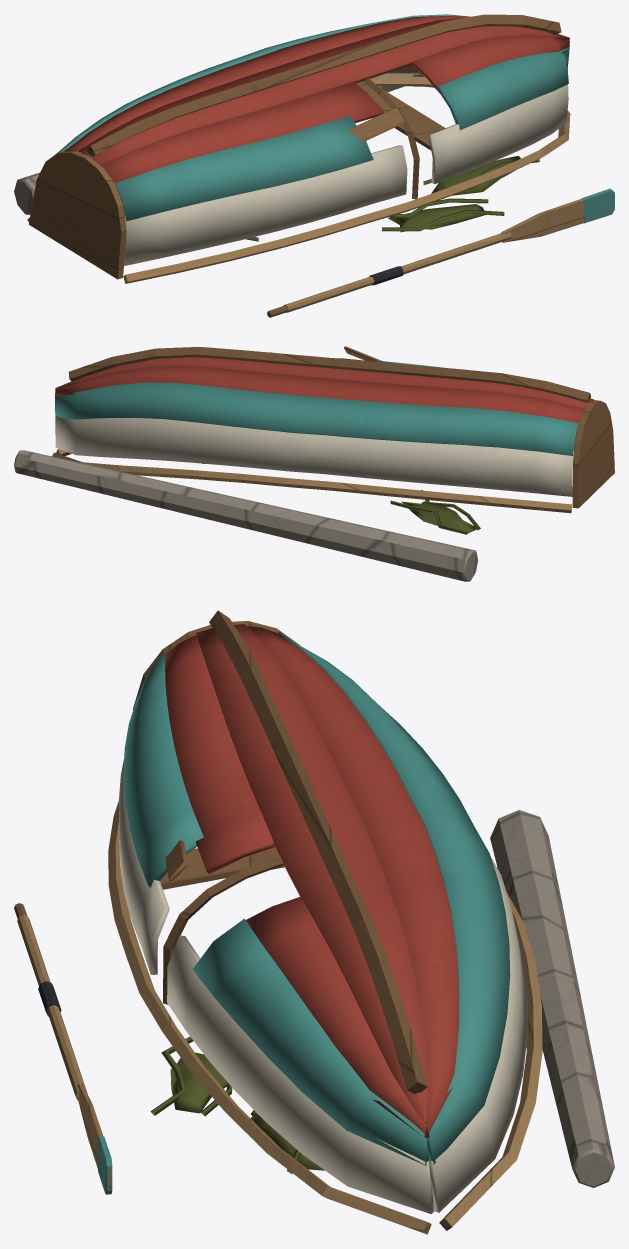
The model's file is rowboat_wreck.glb.
3 views of the same model, one above another, from view 1: azimuth 30°, elevation 25°; view 2: azimuth 150°, elevation 25°; view 3: azimuth 270°, elevation 25° (orthographic). The views are drawn at different scales.
Visible parts, largest first — view 1: rowboat_wreck; view 2: rowboat_wreck; view 3: rowboat_wreck.
Boxes of the visible parts, x1,y1,x2,y2 form: rowboat_wreck: (14, 14, 614, 317); rowboat_wreck: (14, 346, 614, 581); rowboat_wreck: (14, 610, 614, 1234).
Size of the model in its own units: 3.66 by 1.02 by 2.24.
Materials: 15 (15 with a texture image).
